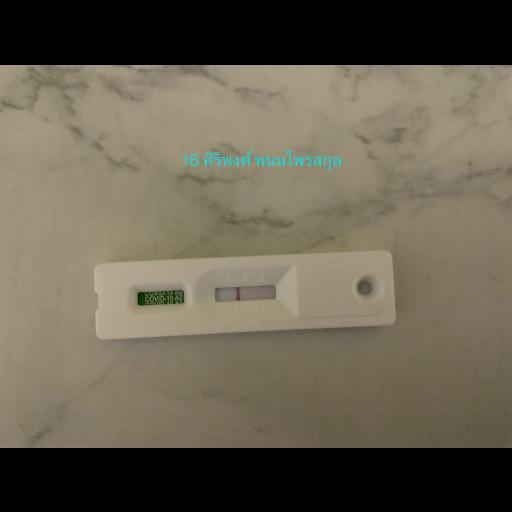Neg: (92, 248, 396, 341)
